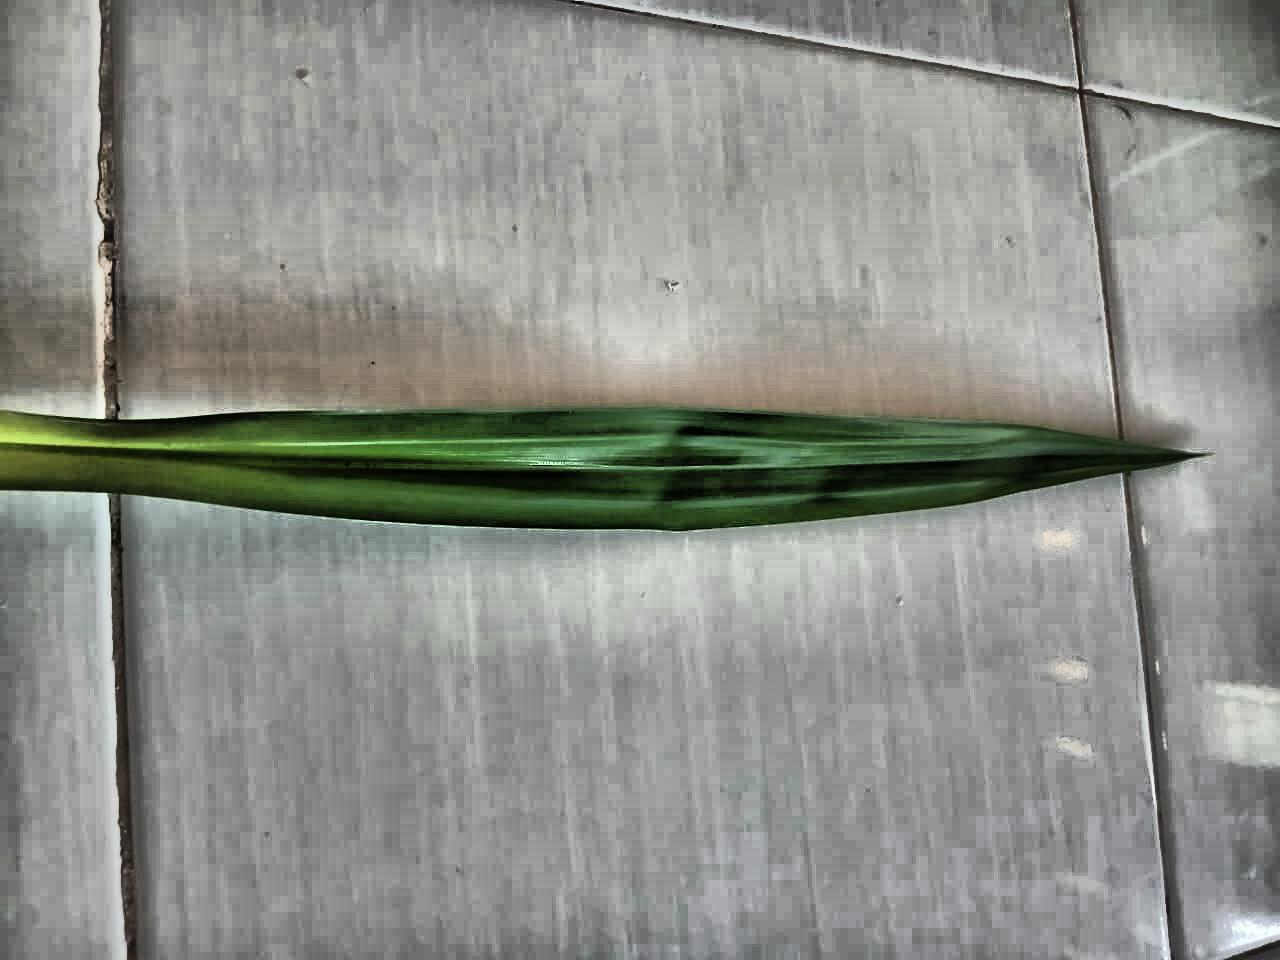daun pandan: (0, 406, 1197, 530)
